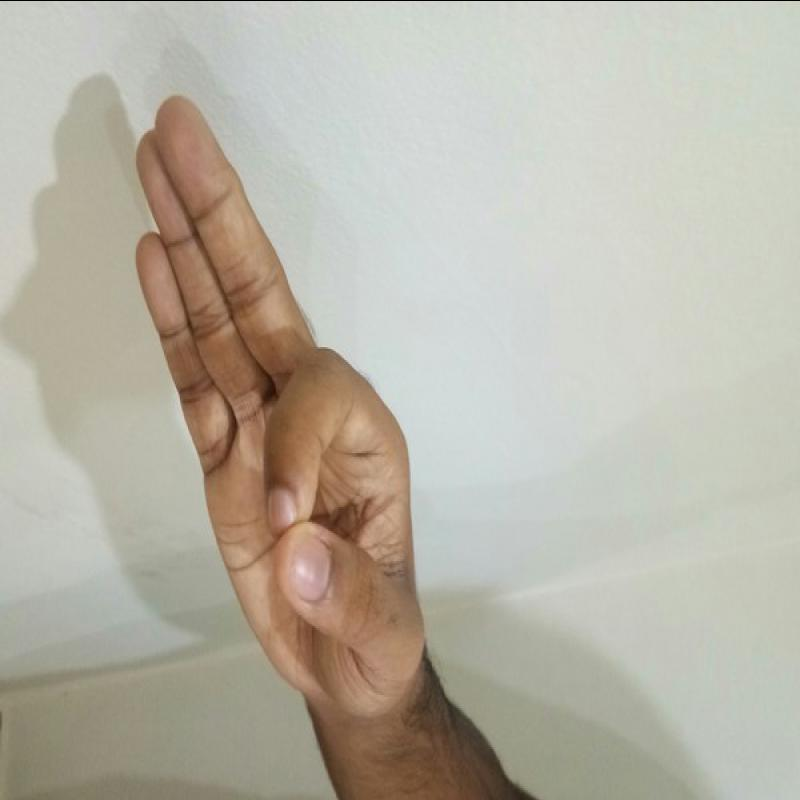Mudraakhyam: (94, 82, 458, 738)
